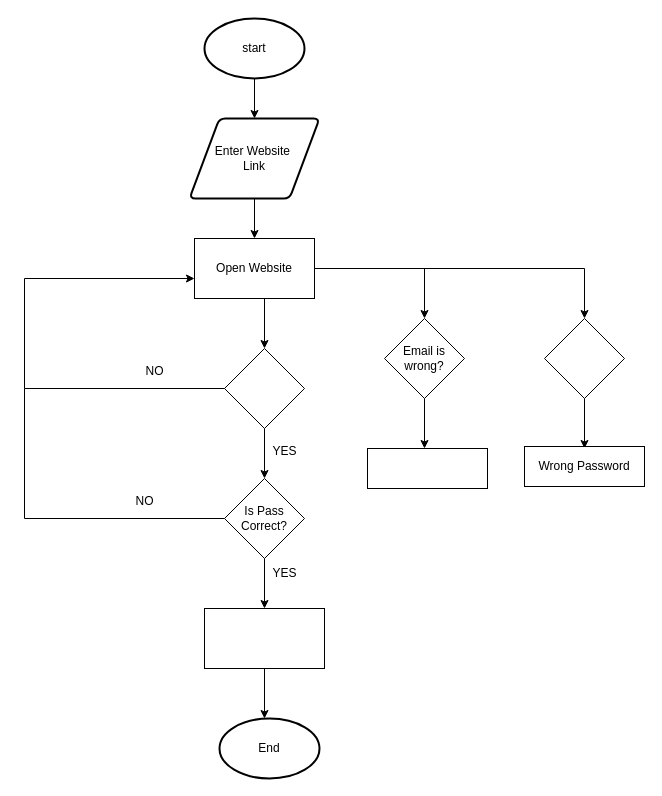
The diagram is 662 pixels wide and 796 high, and some of its shapes have lost their labels. The shapes that lost their labels are listed below. From the top down, each one's box as (x1, y1, x2, y2) in pixels, then its label:
(544, 318, 624, 398): Pass Wrong?
(224, 348, 304, 428): Is Email Correct?
(366, 448, 488, 488): User does not exist
(204, 608, 324, 668): Login Succesfully
